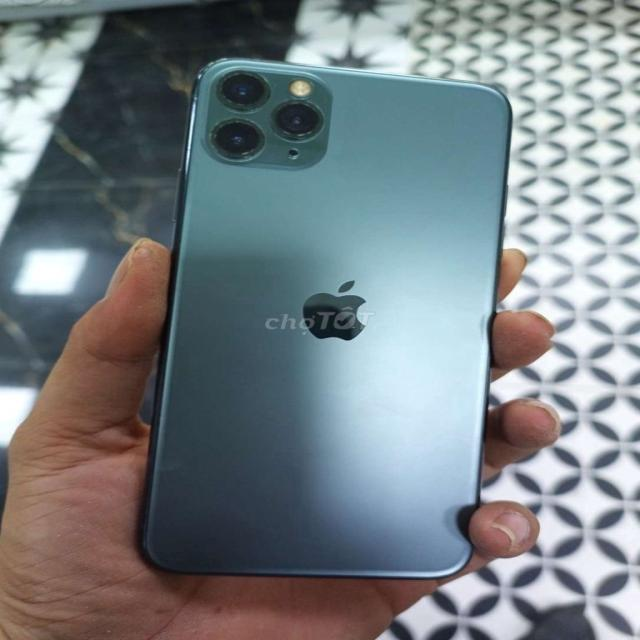scratch: (210, 65, 327, 171)
